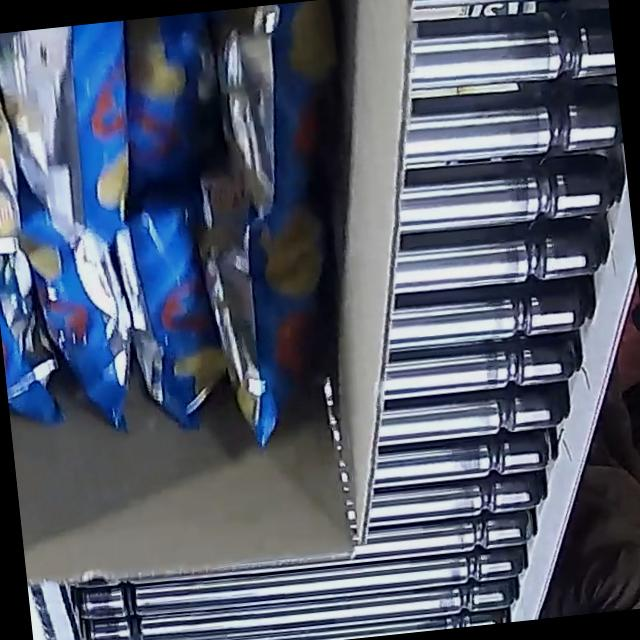paprika: (0, 0, 400, 480)
